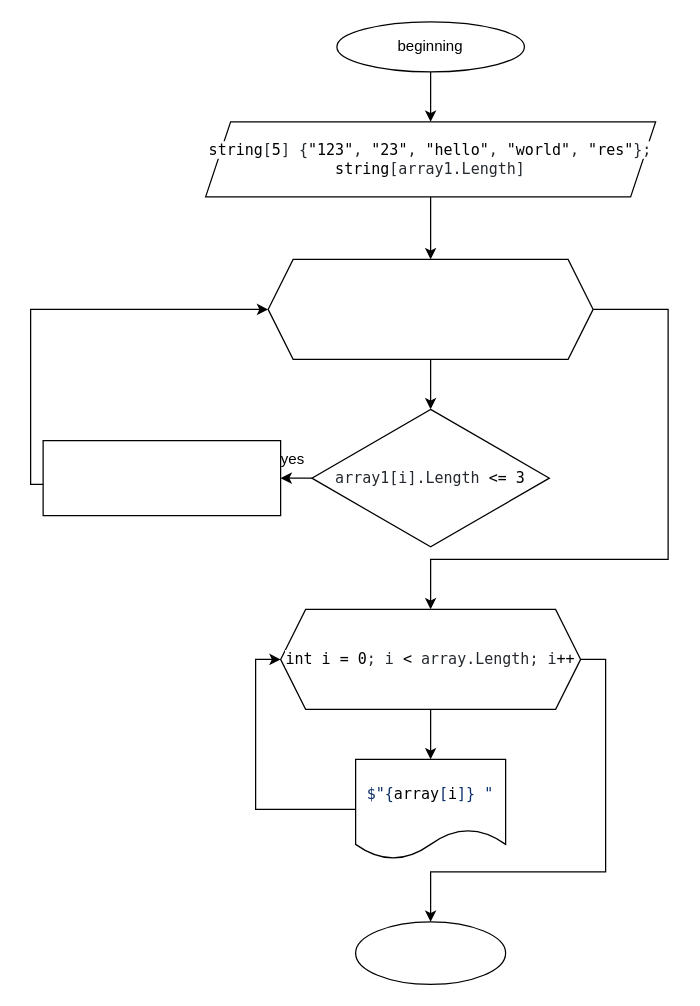
This 700x1006 diagram has some shape labels left out. The shapes that lost their labels are listed below. From the top down, each one's centre as x and y in pixels, then its label:
At (x=430, y=308): "int i = 0 ; i < array1 . Length ; i ++".
At (x=161, y=477): "array2 [ count ] = array1 [ i ] count ++".
At (x=430, y=952): "end".
